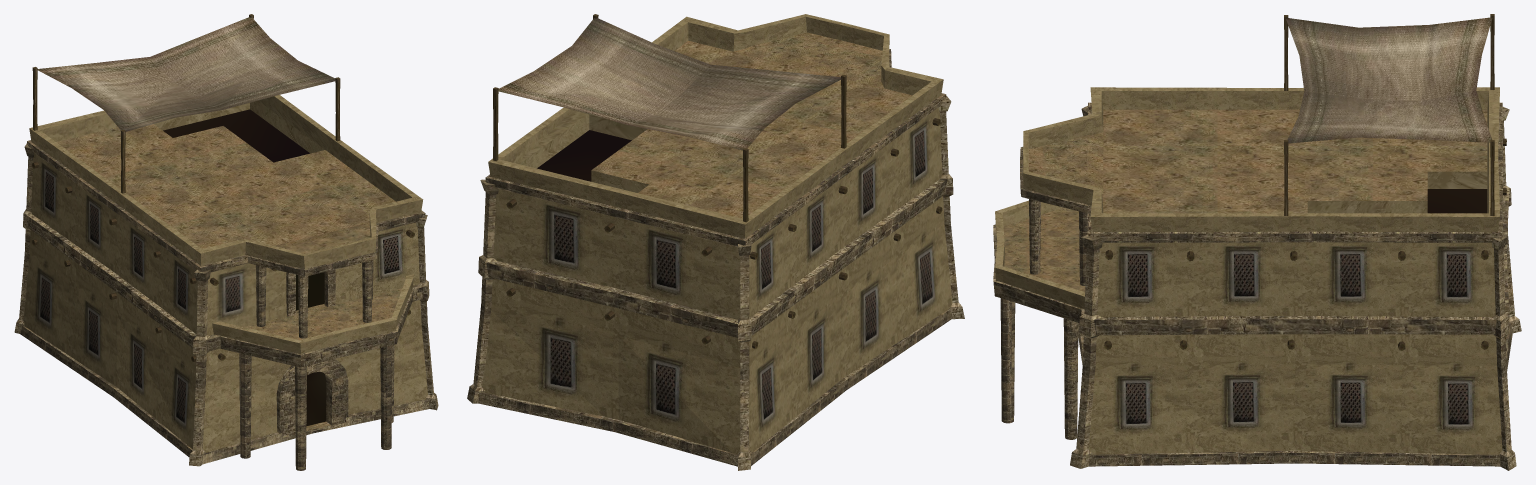
3 renders of one model, left to right at view 1: azimuth 30°, elevation 25°; view 2: azimuth 150°, elevation 25°; view 3: azimuth 270°, elevation 25°, orthographic. The views are drawn at different scales.
Visible parts, largest first — view 1: Object_7, Object_6, Object_5, Object_4, Object_17, Object_15; view 2: Object_7, Object_5, Object_6, Object_17, Object_4, Object_15; view 3: Object_7, Object_6, Object_5, Object_4, Object_17, Object_15.
Boxes of the visible parts, x1,y1,x2,y2 form: Object_7: (23, 109, 419, 449); Object_6: (56, 124, 402, 431); Object_5: (14, 140, 438, 470); Object_4: (29, 95, 427, 452); Object_17: (37, 17, 335, 131); Object_15: (32, 14, 414, 361); Object_7: (482, 107, 952, 454); Object_5: (467, 49, 964, 470); Object_6: (591, 32, 912, 218); Object_17: (498, 18, 842, 150); Object_4: (488, 14, 943, 238); Object_15: (493, 14, 942, 348); Object_7: (1088, 189, 1509, 454); Object_6: (1003, 109, 1487, 291); Object_5: (993, 102, 1521, 470); Object_4: (995, 87, 1499, 309); Object_17: (1286, 17, 1492, 143); Object_15: (1084, 14, 1506, 350).
Bounding box in the file's own units: 13.86 × 14.07 × 21.08.
Materials: 6 (6 with a texture image).
